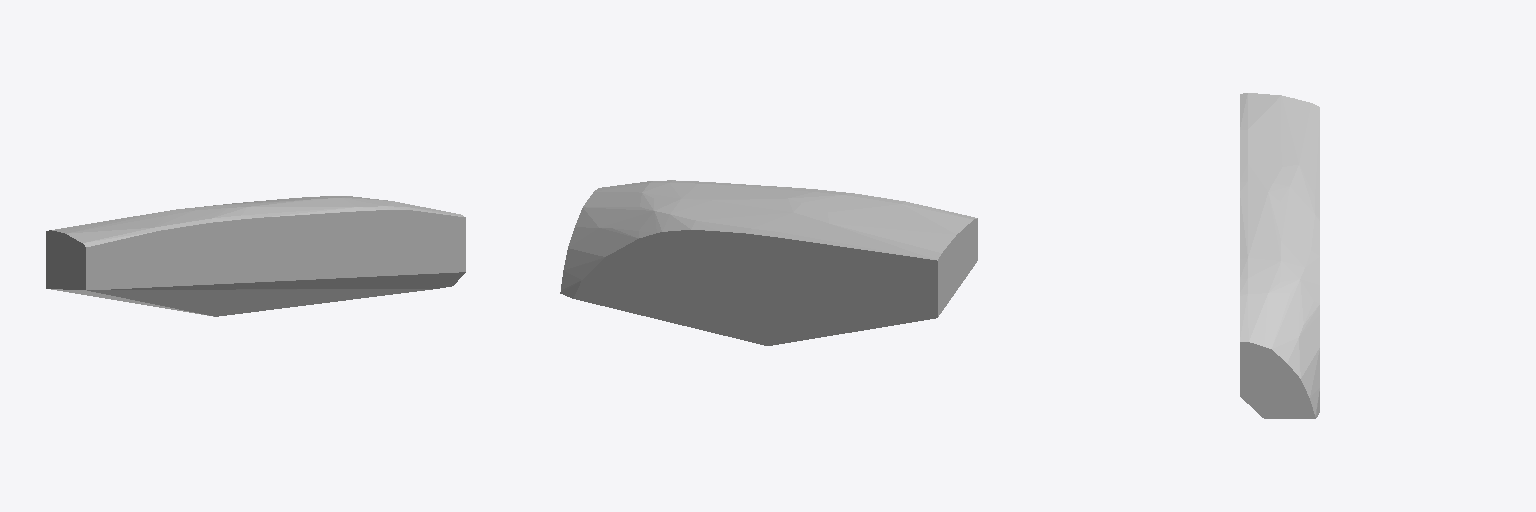
File: phantom-elastrat_collision_301.obj
The picture shows the model from 3 angles: view 1: azimuth 30°, elevation 25°; view 2: azimuth 150°, elevation 25°; view 3: azimuth 270°, elevation 25°; orthographic projection.
Bounding box in the file's own units: 0.0151 × 0.0054 × 0.0028.